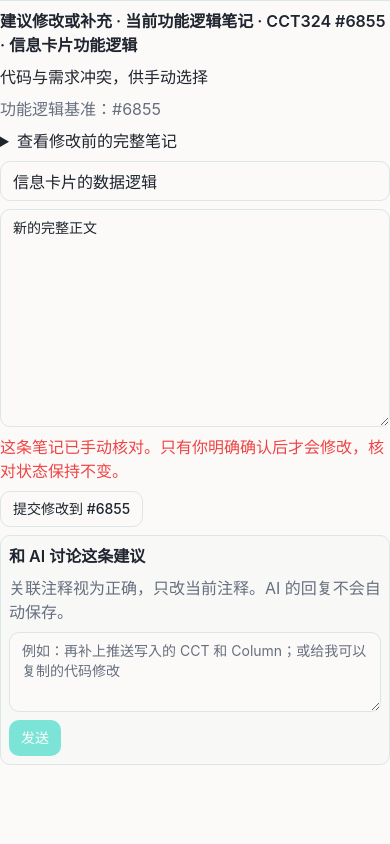
Test: shows stale-save refusal and retains editable suggestion without reporting success
Step 1. Click the button "提交修改到 #6855" → {"x": 72, "y": 509}, box [0,491,143,527]
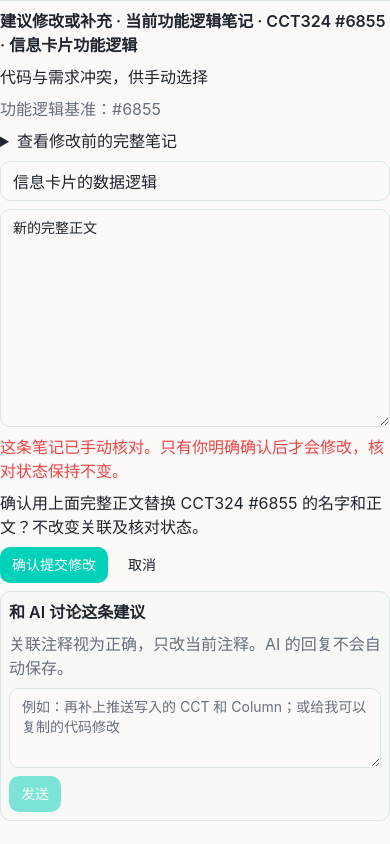
Step 2. Click the button "确认提交修改" → {"x": 54, "y": 565}, box [0,547,108,583]
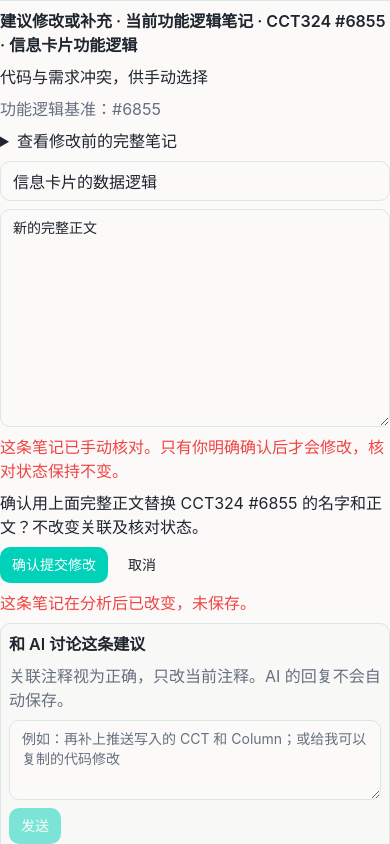
Check: the text box named "建议修改或补充完整正文" is enabled, box [0,209,389,427]
Check: the message shows "未保存", box [0,593,256,613]
